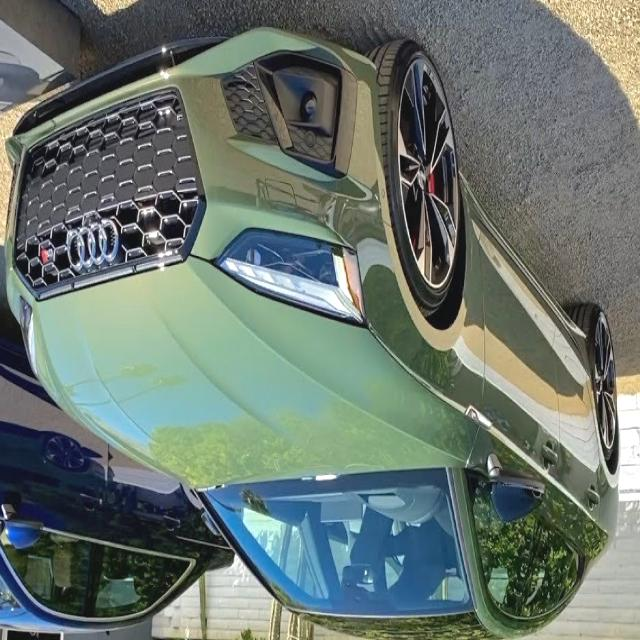green: (19, 0, 640, 637)
